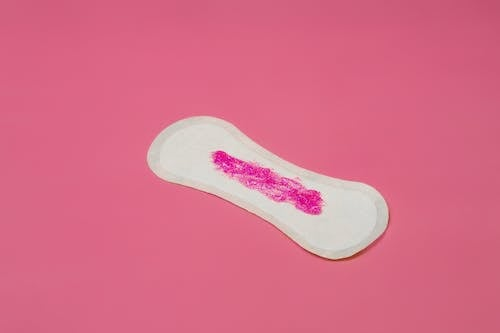blood: (208, 147, 329, 217)
